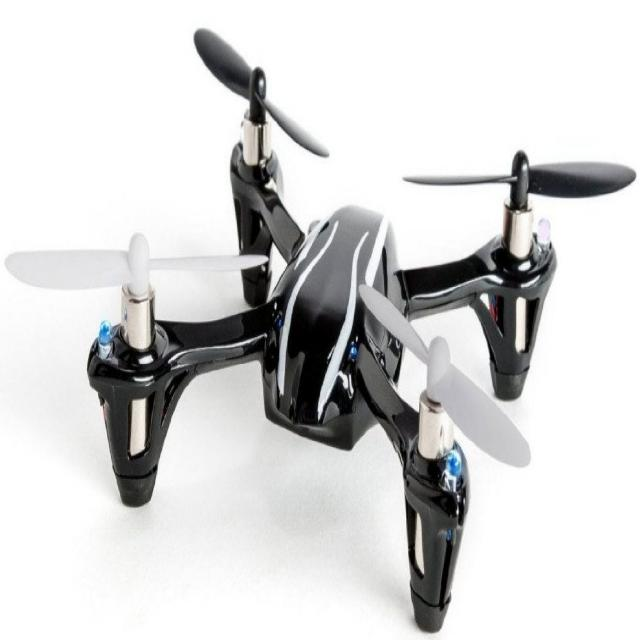drone: (8, 18, 640, 635)
